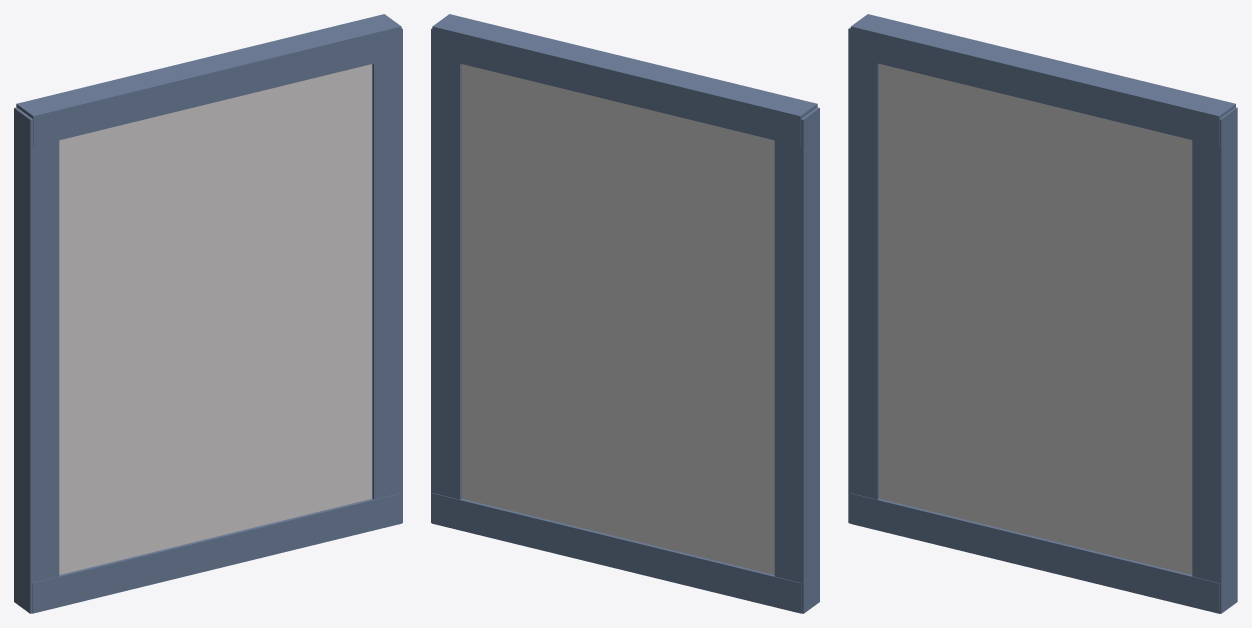
The model's file is 01_wall_straight.glb.
3 views of the same model, side by side, from view 1: azimuth 30°, elevation 25°; view 2: azimuth 150°, elevation 25°; view 3: azimuth 330°, elevation 25° (orthographic).
Parts seen in each view (by area): view 1: part_1.006, part_4.005, part_2.006, part_5.006, part_3.006; view 2: part_1.006, part_4.005, part_2.006, part_5.006, part_3.006; view 3: part_1.006, part_5.006, part_2.006, part_4.005, part_3.006.
Boxes of the visible parts, x1,y1,x2,y2 form: part_1.006: (59,64,372,574); part_4.005: (14,107,59,613); part_2.006: (16,14,401,146); part_5.006: (372,28,402,523); part_3.006: (32,493,401,613); part_1.006: (461,64,774,574); part_4.005: (774,107,819,613); part_2.006: (432,14,817,146); part_5.006: (431,28,461,523); part_3.006: (432,493,801,613); part_1.006: (879,64,1192,574); part_5.006: (1192,107,1237,613); part_2.006: (851,14,1235,146); part_4.005: (848,27,878,523); part_3.006: (850,493,1219,613).
Size of the model in its own units: 2.35 by 3 by 0.1857.
